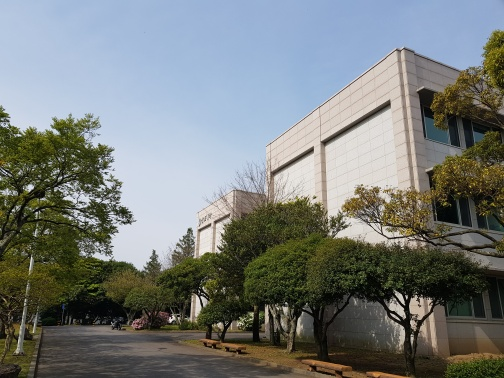College of Nursing: (261, 71, 490, 343), (188, 181, 242, 322)
